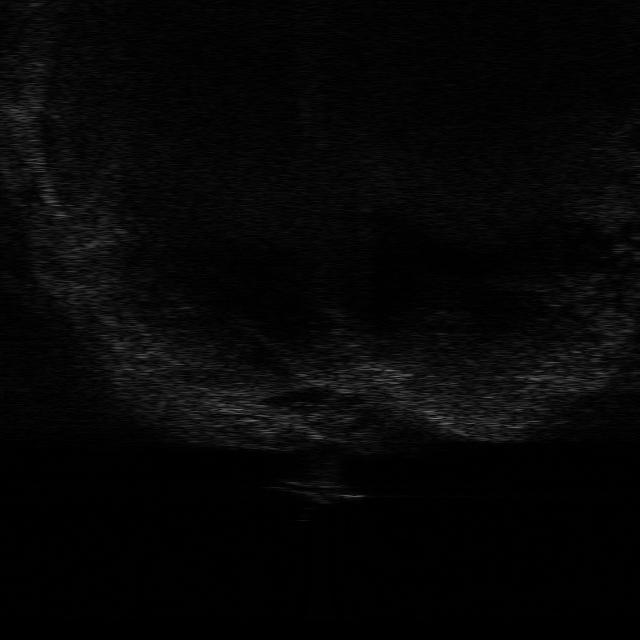plane: (269, 476, 375, 507)
